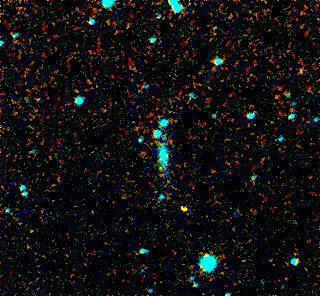star: (168, 195, 198, 225)
